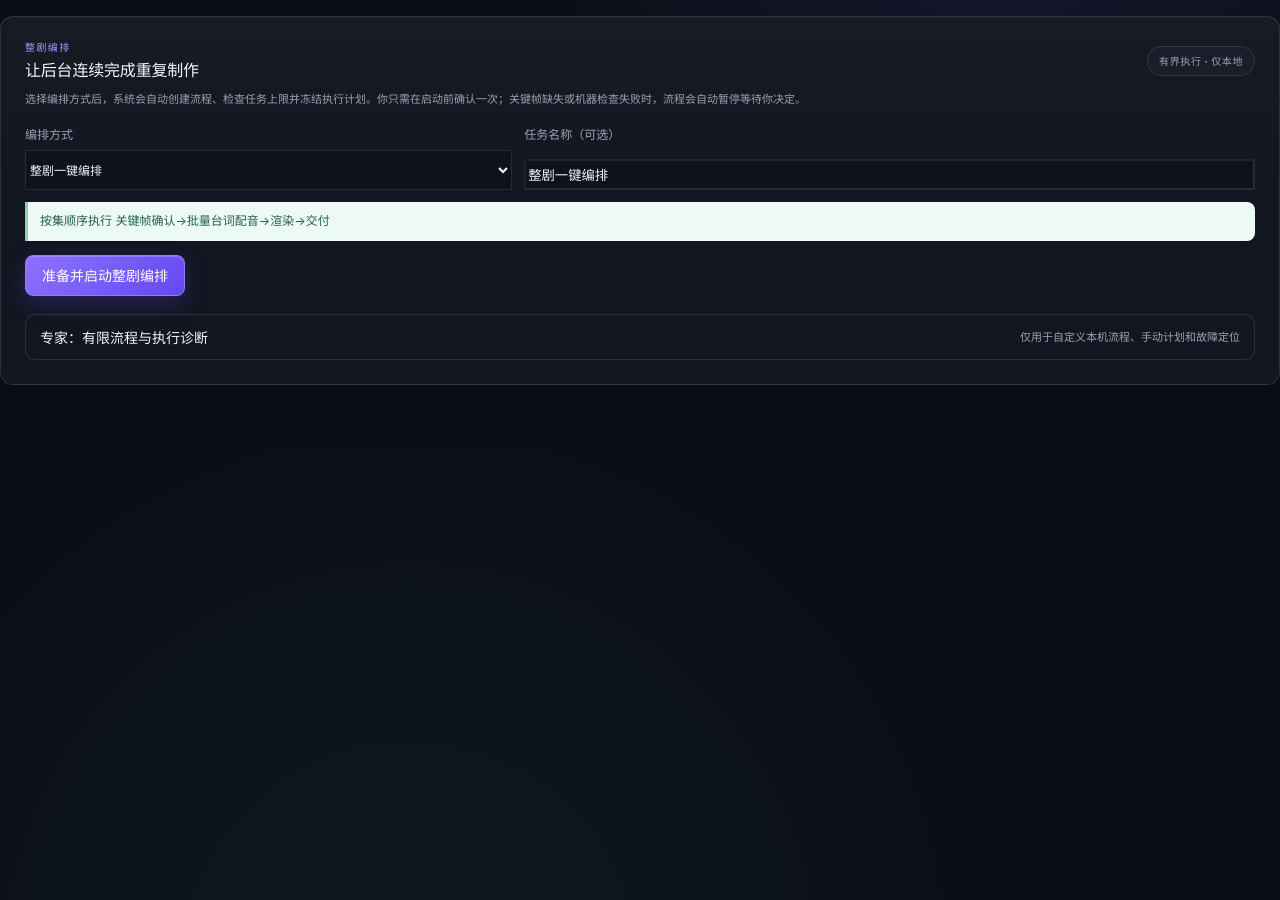
AutomationWorkflowPanel › creates and plans a whole-drama workflow in the background without exposing ids
This screenshot has width=1280, height=900.
Check: the text "按集顺序执行 关键帧确认→批量台词配音→渲染→交付" is shown, box left=25, top=202, right=1255, bottom=241
Replace the text in the field named "编排标题" with "整剧一键编排测试" at [890, 175], box left=524, top=159, right=1255, bottom=190
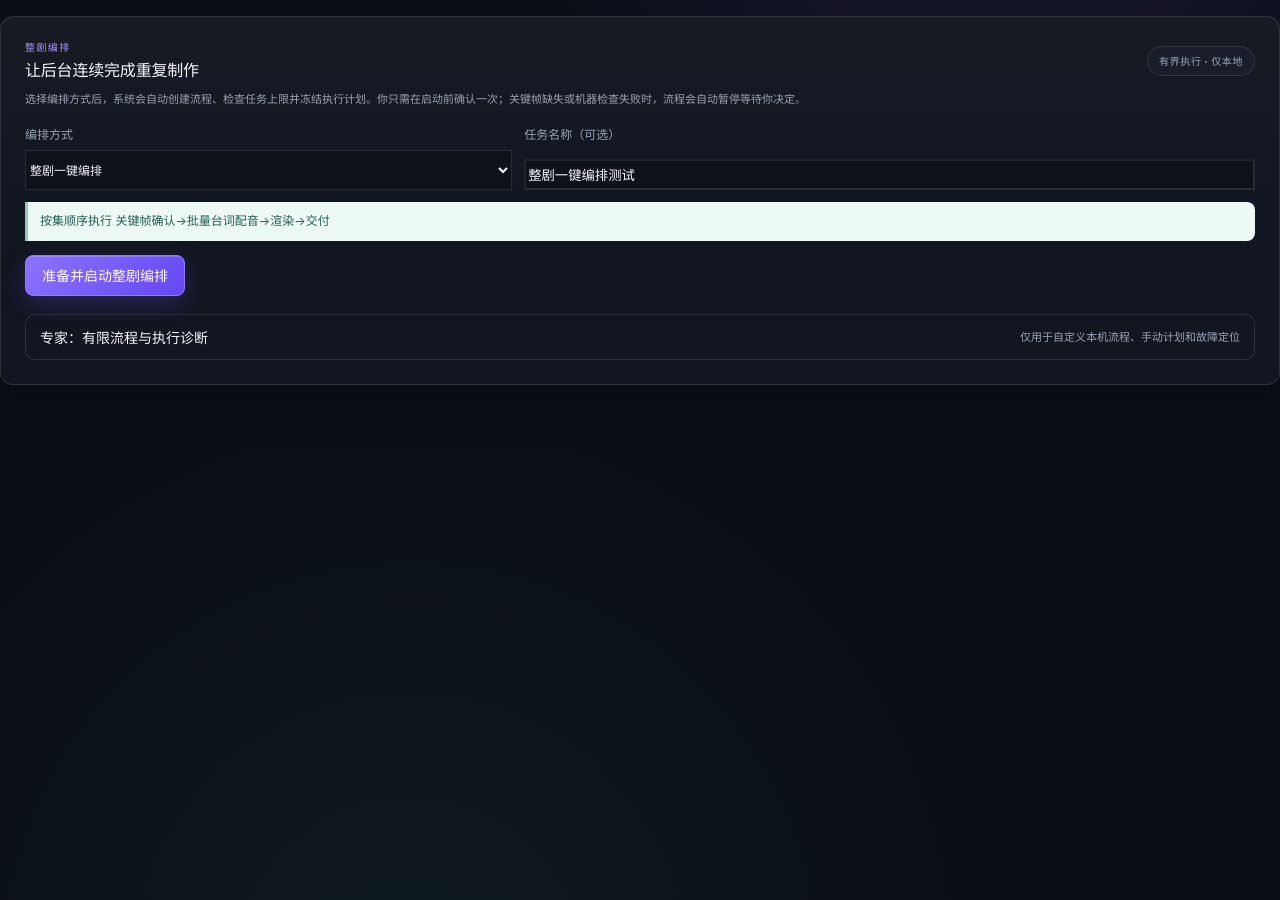
Click the button "准备并启动整剧编排" at [105, 276], box left=25, top=255, right=185, bottom=296
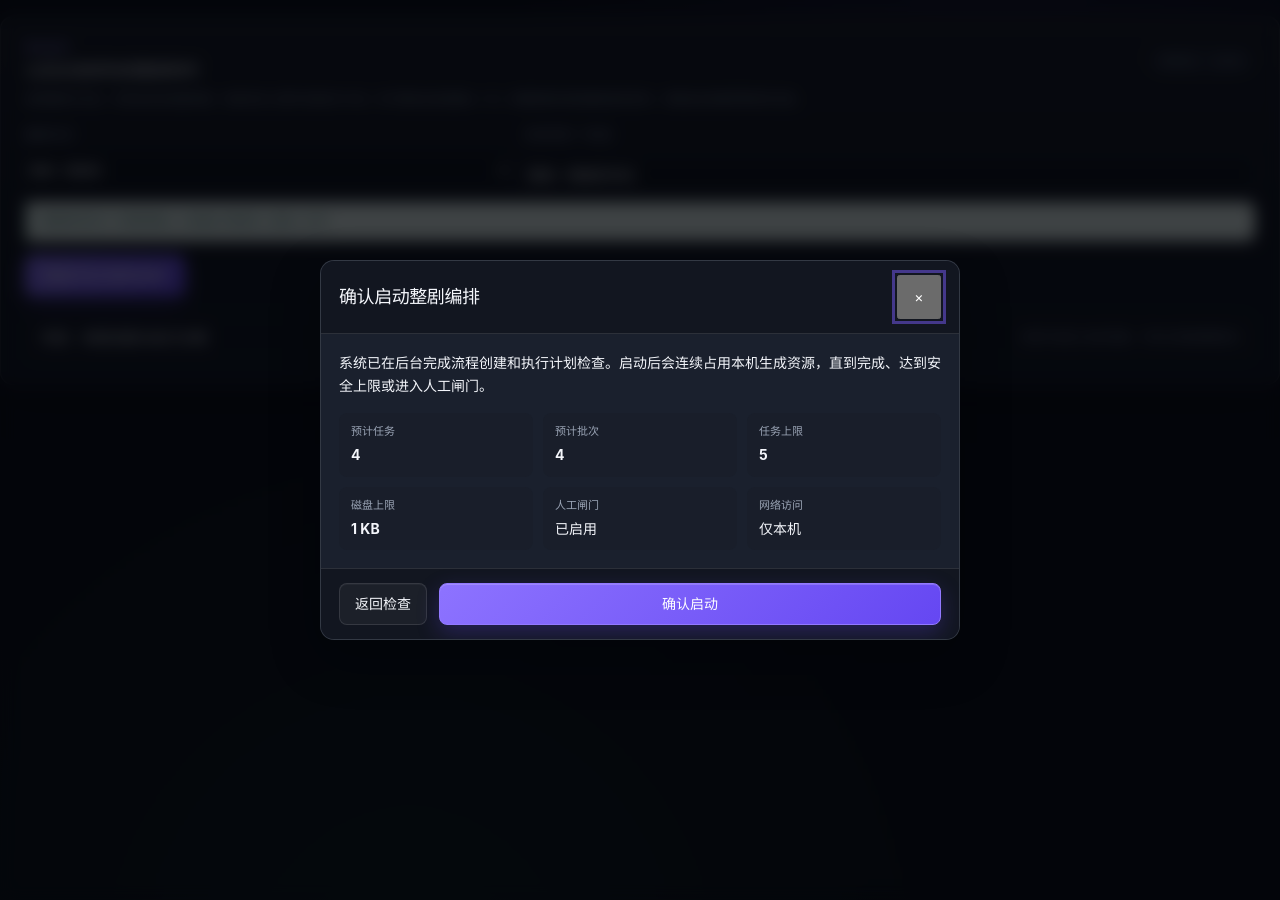
Check: the dialog "确认启动整剧编排" is shown, box left=320, top=260, right=960, bottom=640
